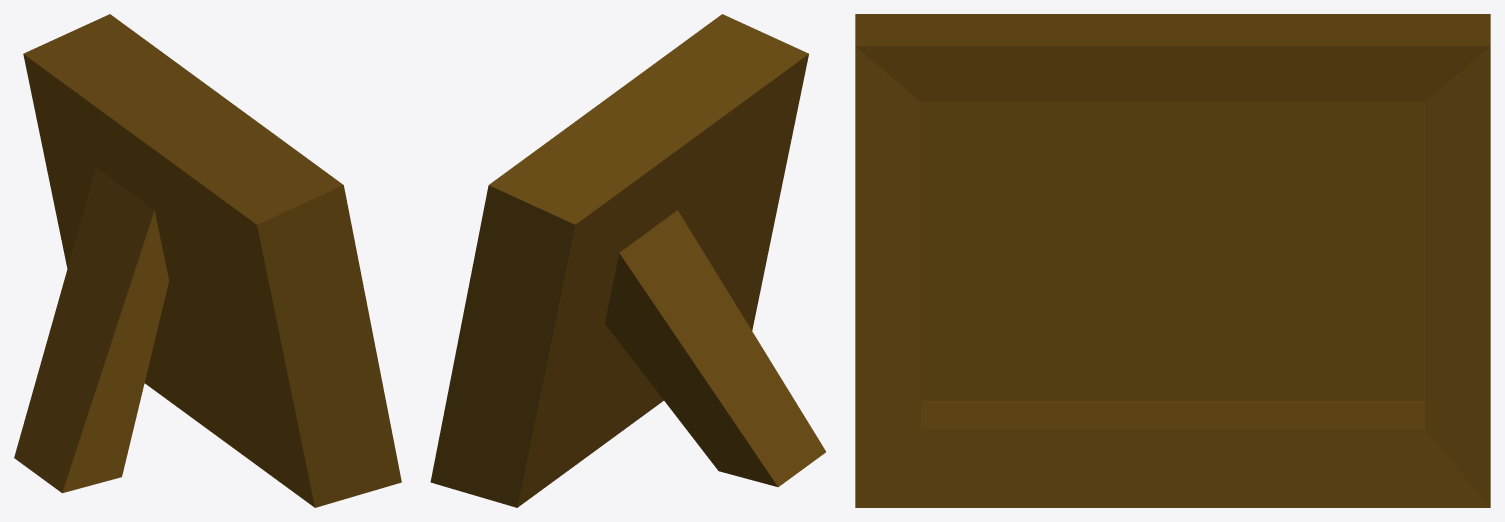
The model's file is pictureframetable01.obj.
3 views of the same model, side by side, from view 1: azimuth 30°, elevation 25°; view 2: azimuth 150°, elevation 25°; view 3: azimuth 270°, elevation 25° (orthographic). The views are drawn at different scales.
Visible parts, largest first — view 1: Cube_Cube.001; view 2: Cube_Cube.001; view 3: Cube_Cube.001.
Boxes of the visible parts, x1=… form: Cube_Cube.001: x1=14, y1=14, x2=401, y2=507; Cube_Cube.001: x1=430, y1=14, x2=825, y2=507; Cube_Cube.001: x1=855, y1=14, x2=1490, y2=507.
Bounding box in the file's own units: 0.0566 × 0.0703 × 0.0914.
